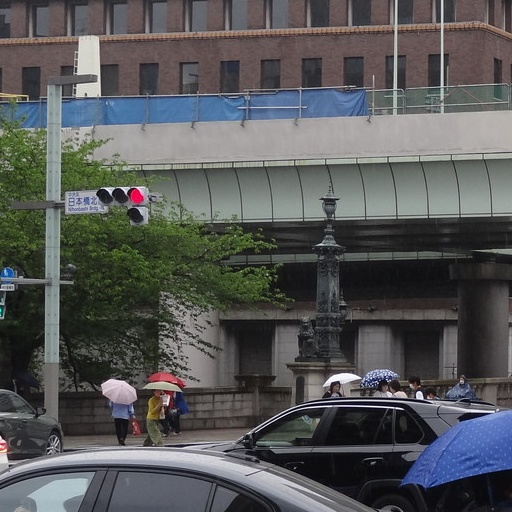Traffic_Signal_Red: (87, 183, 159, 212)
